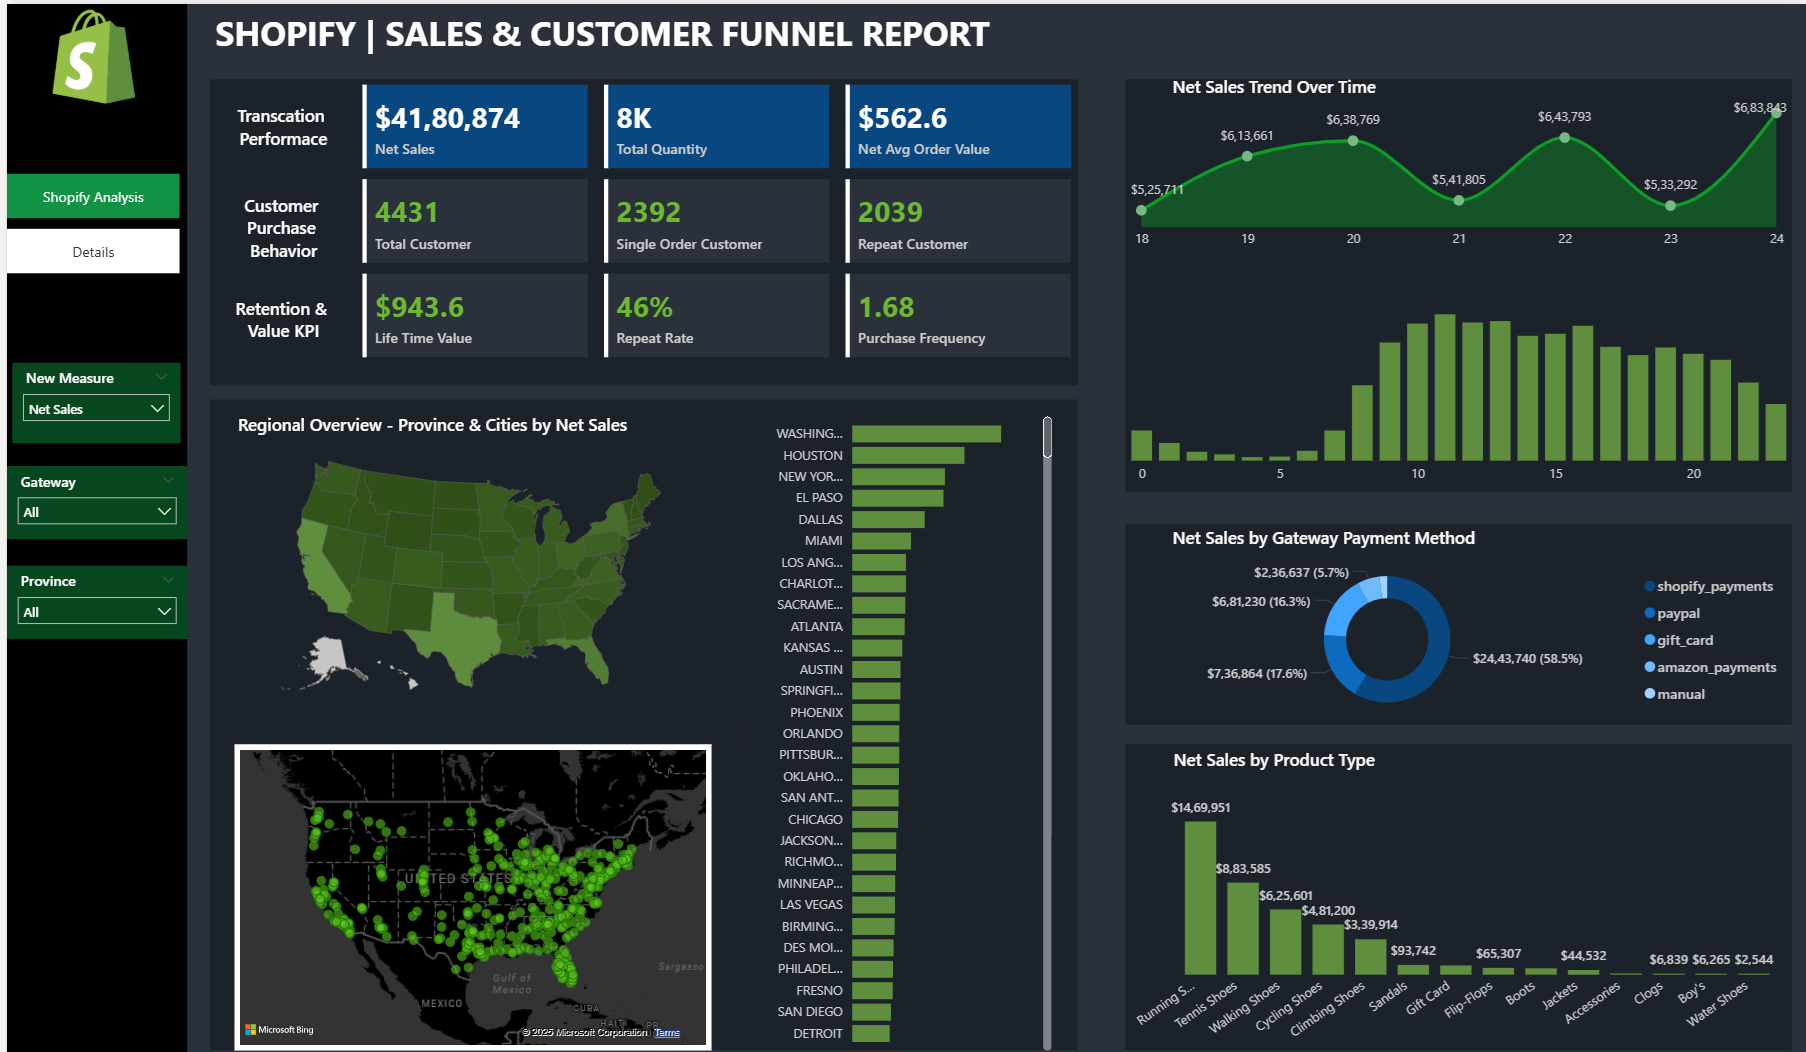

Layout of this report page (visuals, bound fields, positions):
{"tool":"powerbi","page":{"name":"Shopify Analysis","canvas":[1700,1000],"ordinal":0},"visuals":[{"type":"shape","box":[0,0,170,1000.9],"z":0},{"type":"textbox","box":[191.5,0,750.2,71.1],"z":1000},{"type":"shape","box":[191.6,71,819.3,289.1],"z":2000},{"type":"cardVisual","fields":{"Data":["shopify_sales.Net Sales","shopify_sales.Total Quantity","shopify_sales.Net Avg Order Value"]},"box":[330.4,71,680.6,89.2],"z":3000},{"type":"card","fields":{"Values":["shopify_sales.Transaction Perf"]},"box":[191.6,77.6,138.8,76],"z":4000},{"type":"cardVisual","fields":{"Data":["shopify_sales.Total Customer","shopify_sales.Single Order Customer","shopify_sales.Repeat Customer"]},"box":[330.4,160.2,680.6,89.2],"z":5000},{"type":"card","fields":{"Values":["shopify_sales.Customer Purchase Behavior"]},"box":[191.6,166.8,138.8,82.6],"z":6000},{"type":"cardVisual","fields":{"Data":["shopify_sales.Life Time Value","shopify_sales.Repeat Rate","shopify_sales.Purchase Frequency"]},"box":[330.4,249.4,680.6,89.2],"z":7000},{"type":"card","fields":{"Values":["shopify_sales.Retention & Value KPI"]},"box":[191.6,256,138.8,82.6],"z":8000},{"type":"shape","box":[191.6,373.3,819.3,614.5],"z":9000},{"type":"shapeMap","fields":{"Value":["shopify_sales.Net Sales"],"Category":["shopify_sales.Billing Address Province"]},"box":[213.1,414.6,450,249.4],"z":10000},{"type":"slicer","fields":{"Values":["New Measure.New Measure"]},"box":[5,338.6,158.6,76],"z":11000},{"type":"map","fields":{"Category":["shopify_sales.Location"]},"box":[214.7,698.7,450,289.1],"z":12000},{"type":"barChart","fields":{"Y":["shopify_sales.Net Sales"],"Category":["shopify_sales.CITY"]},"box":[687.2,376.6,303.9,616.1],"z":13000},{"type":"card","fields":{"Values":["shopify_sales.Map Title"]},"box":[191.6,376.6,419.6,44.6],"z":14000},{"type":"shape","box":[1055.5,71,629.4,389.8],"z":15000},{"type":"areaChart","fields":{"Y":["shopify_sales.Net Sales"],"Category":["shopify_sales.Invoice Date.Variation.Date Hierarchy.Day"]},"box":[1055.5,79.3,629.4,160.2],"z":16000},{"type":"columnChart","fields":{"Y":["shopify_sales.Net Sales"],"Category":["shopify_sales.Hour"]},"box":[1055.5,256,629.4,204.8],"z":17000},{"type":"card","fields":{"Values":["shopify_sales.Trend Title"]},"box":[1055.5,61.1,280.8,38],"z":18000},{"type":"shape","box":[1055.5,490.6,629.4,190],"z":19000},{"type":"donutChart","fields":{"Y":["shopify_sales.Net Sales"],"Category":["shopify_sales.Gateway"]},"box":[1055.5,518.7,629.4,161.9],"z":20000},{"type":"card","fields":{"Values":["shopify_sales.Payment Gateway Title"]},"box":[1055.5,490.6,375,29.7],"z":21000},{"type":"shape","box":[1055.5,698.7,629.4,289.1],"z":22000},{"type":"columnChart","fields":{"Y":["shopify_sales.Net Sales"],"Category":["shopify_sales.Product Type"]},"box":[1055.5,730.1,629.4,269.3],"z":23000},{"type":"card","fields":{"Values":["shopify_sales.Product Title"]},"box":[1055.5,700.4,280.8,29.7],"z":24000},{"type":"image","box":[0,0,163.5,99.1],"z":25000},{"type":"slicer","fields":{"Values":["shopify_sales.Gateway"]},"box":[0,436.1,170.1,69.4],"z":26000},{"type":"slicer","fields":{"Values":["shopify_sales.Billing Address Province"]},"box":[0,530.2,170.1,69.4],"z":27000},{"type":"pageNavigator","box":[0,160.2,163.5,95.8],"z":28000}]}

Visuals, with their boxes on the page's 1700x1000 design canvas (x1, y1, x2, y2). These are canvas units, not pixel positions in the 1806x1052 screenshot, which may show the page scaled, cropped or inside an application window:
shape: <region>0, 0, 170, 1001</region>
textbox: <region>192, 0, 942, 71</region>
shape: <region>192, 71, 1011, 360</region>
cardVisual - shopify_sales.Net Sales x shopify_sales.Total Quantity: <region>330, 71, 1011, 160</region>
card - shopify_sales.Transaction Perf: <region>192, 78, 330, 154</region>
cardVisual - shopify_sales.Total Customer x shopify_sales.Single Order Customer: <region>330, 160, 1011, 249</region>
card - shopify_sales.Customer Purchase Behavior: <region>192, 167, 330, 249</region>
cardVisual - shopify_sales.Life Time Value x shopify_sales.Repeat Rate: <region>330, 249, 1011, 339</region>
card - shopify_sales.Retention & Value KPI: <region>192, 256, 330, 339</region>
shape: <region>192, 373, 1011, 988</region>
shapeMap - shopify_sales.Net Sales x shopify_sales.Billing Address Province: <region>213, 415, 663, 664</region>
slicer - New Measure.New Measure: <region>5, 339, 164, 415</region>
map - shopify_sales.Location: <region>215, 699, 665, 988</region>
barChart - shopify_sales.Net Sales x shopify_sales.CITY: <region>687, 377, 991, 993</region>
card - shopify_sales.Map Title: <region>192, 377, 611, 421</region>
shape: <region>1056, 71, 1685, 461</region>
areaChart - shopify_sales.Net Sales x shopify_sales.Invoice Date.Variation.Date Hierarchy.Day: <region>1056, 79, 1685, 240</region>
columnChart - shopify_sales.Net Sales x shopify_sales.Hour: <region>1056, 256, 1685, 461</region>
card - shopify_sales.Trend Title: <region>1056, 61, 1336, 99</region>
shape: <region>1056, 491, 1685, 681</region>
donutChart - shopify_sales.Net Sales x shopify_sales.Gateway: <region>1056, 519, 1685, 681</region>
card - shopify_sales.Payment Gateway Title: <region>1056, 491, 1430, 520</region>
shape: <region>1056, 699, 1685, 988</region>
columnChart - shopify_sales.Net Sales x shopify_sales.Product Type: <region>1056, 730, 1685, 999</region>
card - shopify_sales.Product Title: <region>1056, 700, 1336, 730</region>
image: <region>0, 0, 164, 99</region>
slicer - shopify_sales.Gateway: <region>0, 436, 170, 506</region>
slicer - shopify_sales.Billing Address Province: <region>0, 530, 170, 600</region>
pageNavigator: <region>0, 160, 164, 256</region>
